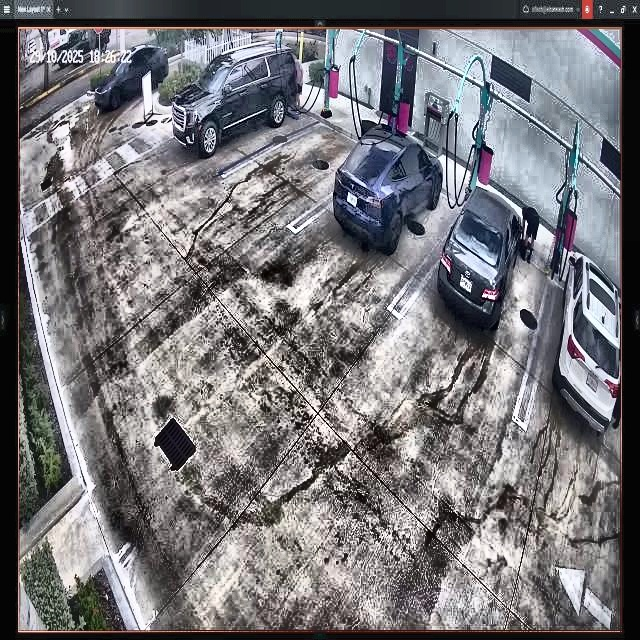Car: (335, 124, 441, 255), (437, 185, 523, 332)
